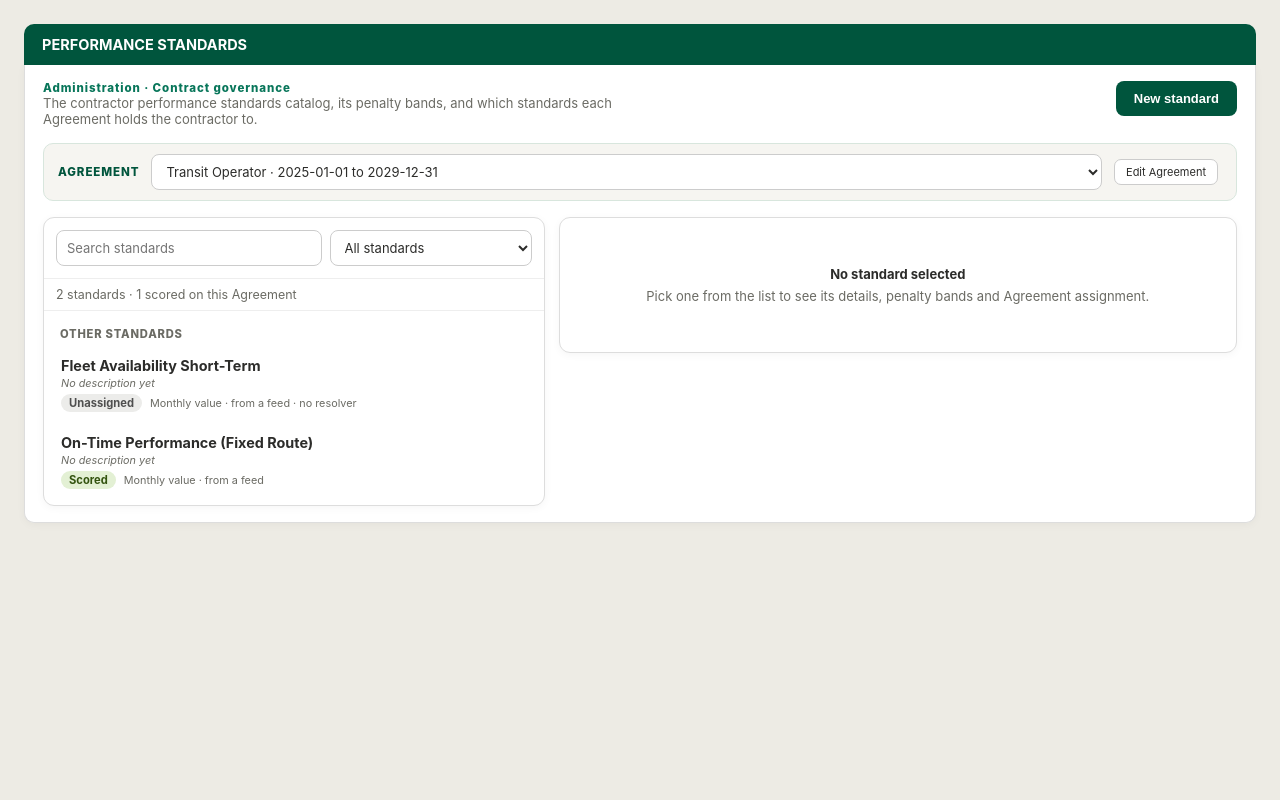
Performance Standards administration › shows a percentage target as a percentage, not as the ratio it is stored as
This screenshot has width=1280, height=800.
Click the text "On-Time Performance (Fixed Route)".
click(187, 442)  # box [61,434,313,451]
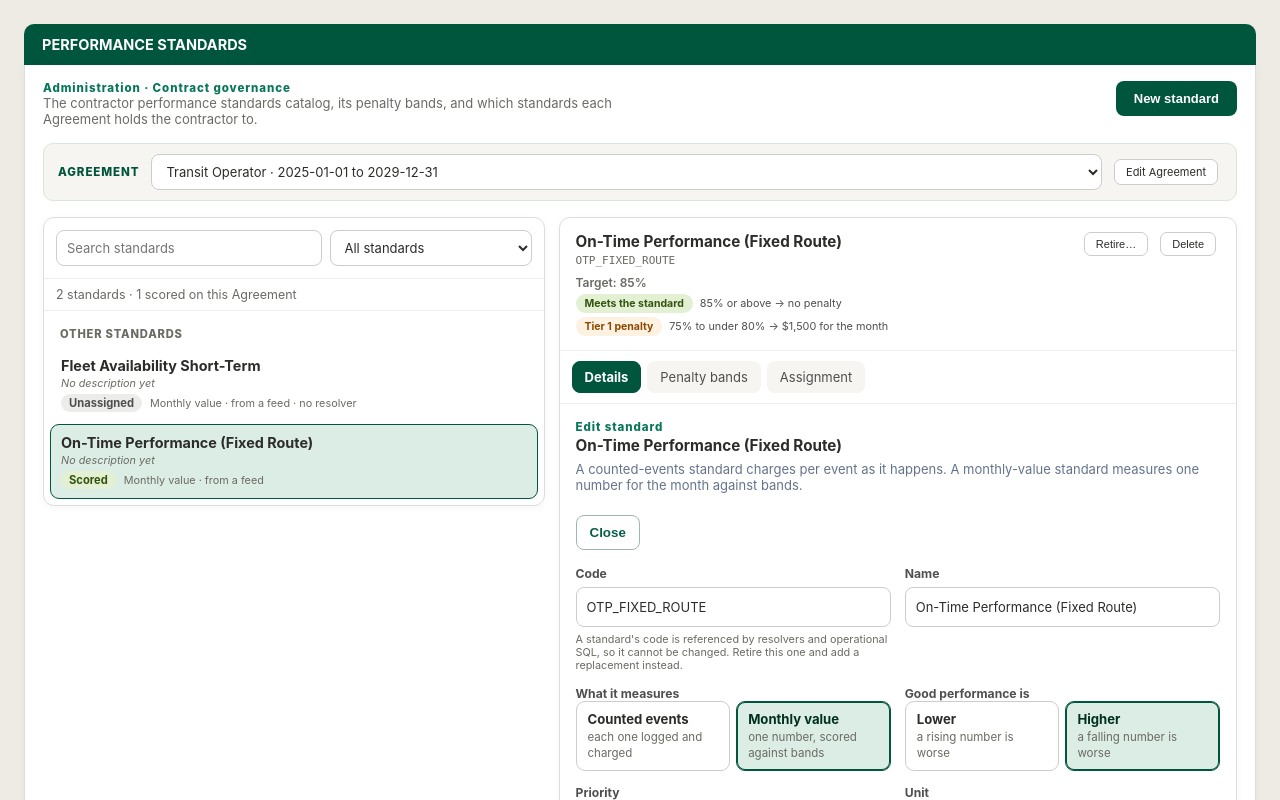
Result: the text "Target: 85%" is shown at [576,275,647,290]
